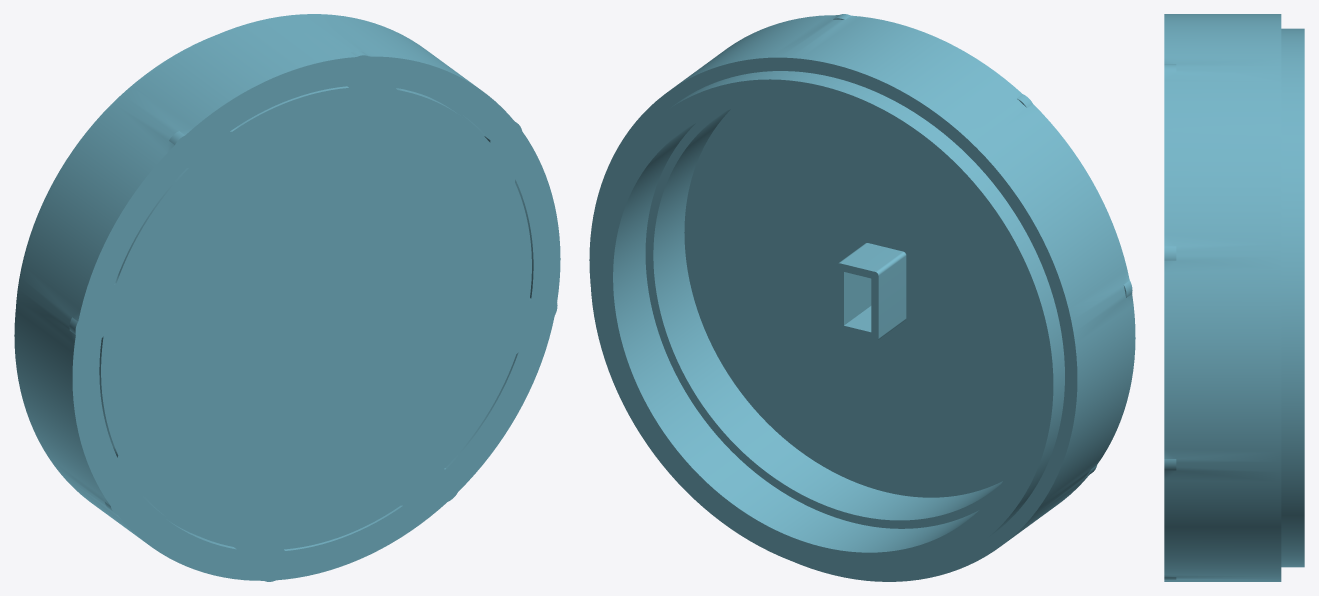
File: Cap_turbine_wheel.glb
3 renders of one model, left to right at view 1: azimuth 30°, elevation 25°; view 2: azimuth 150°, elevation 25°; view 3: azimuth 270°, elevation 25°, orthographic.
Parts seen in each view (by area): view 1: Cap_turbine_wheel_0; view 2: Cap_turbine_wheel_0; view 3: Cap_turbine_wheel_0.
Boxes of the visible parts, x1,y1,x2,y2 form: Cap_turbine_wheel_0: (14,14,560,581); Cap_turbine_wheel_0: (589,14,1135,581); Cap_turbine_wheel_0: (1164,14,1304,581).
Bounding box in the file's own units: 60.7 × 60.7 × 15.
